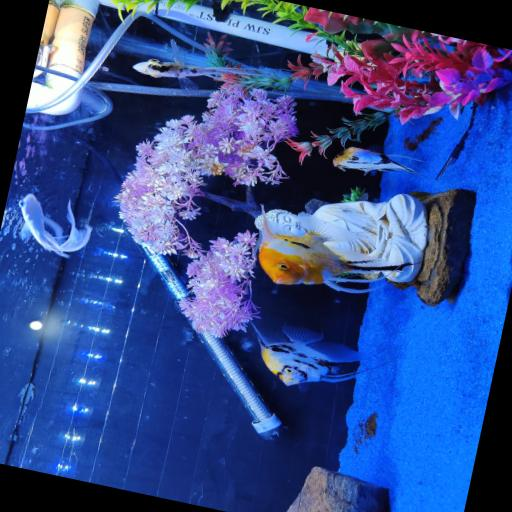Fish: (259, 210, 413, 292), (133, 39, 289, 89), (252, 324, 375, 385), (19, 193, 92, 257), (333, 147, 427, 178), (36, 42, 56, 67)
